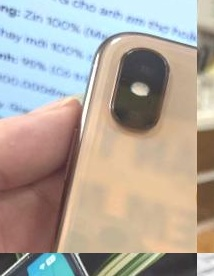scratch: (103, 72, 122, 88)
